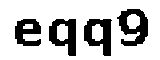9: (115, 7, 150, 50)
e: (10, 16, 42, 50)
q: (46, 16, 82, 60), (81, 16, 114, 60)
